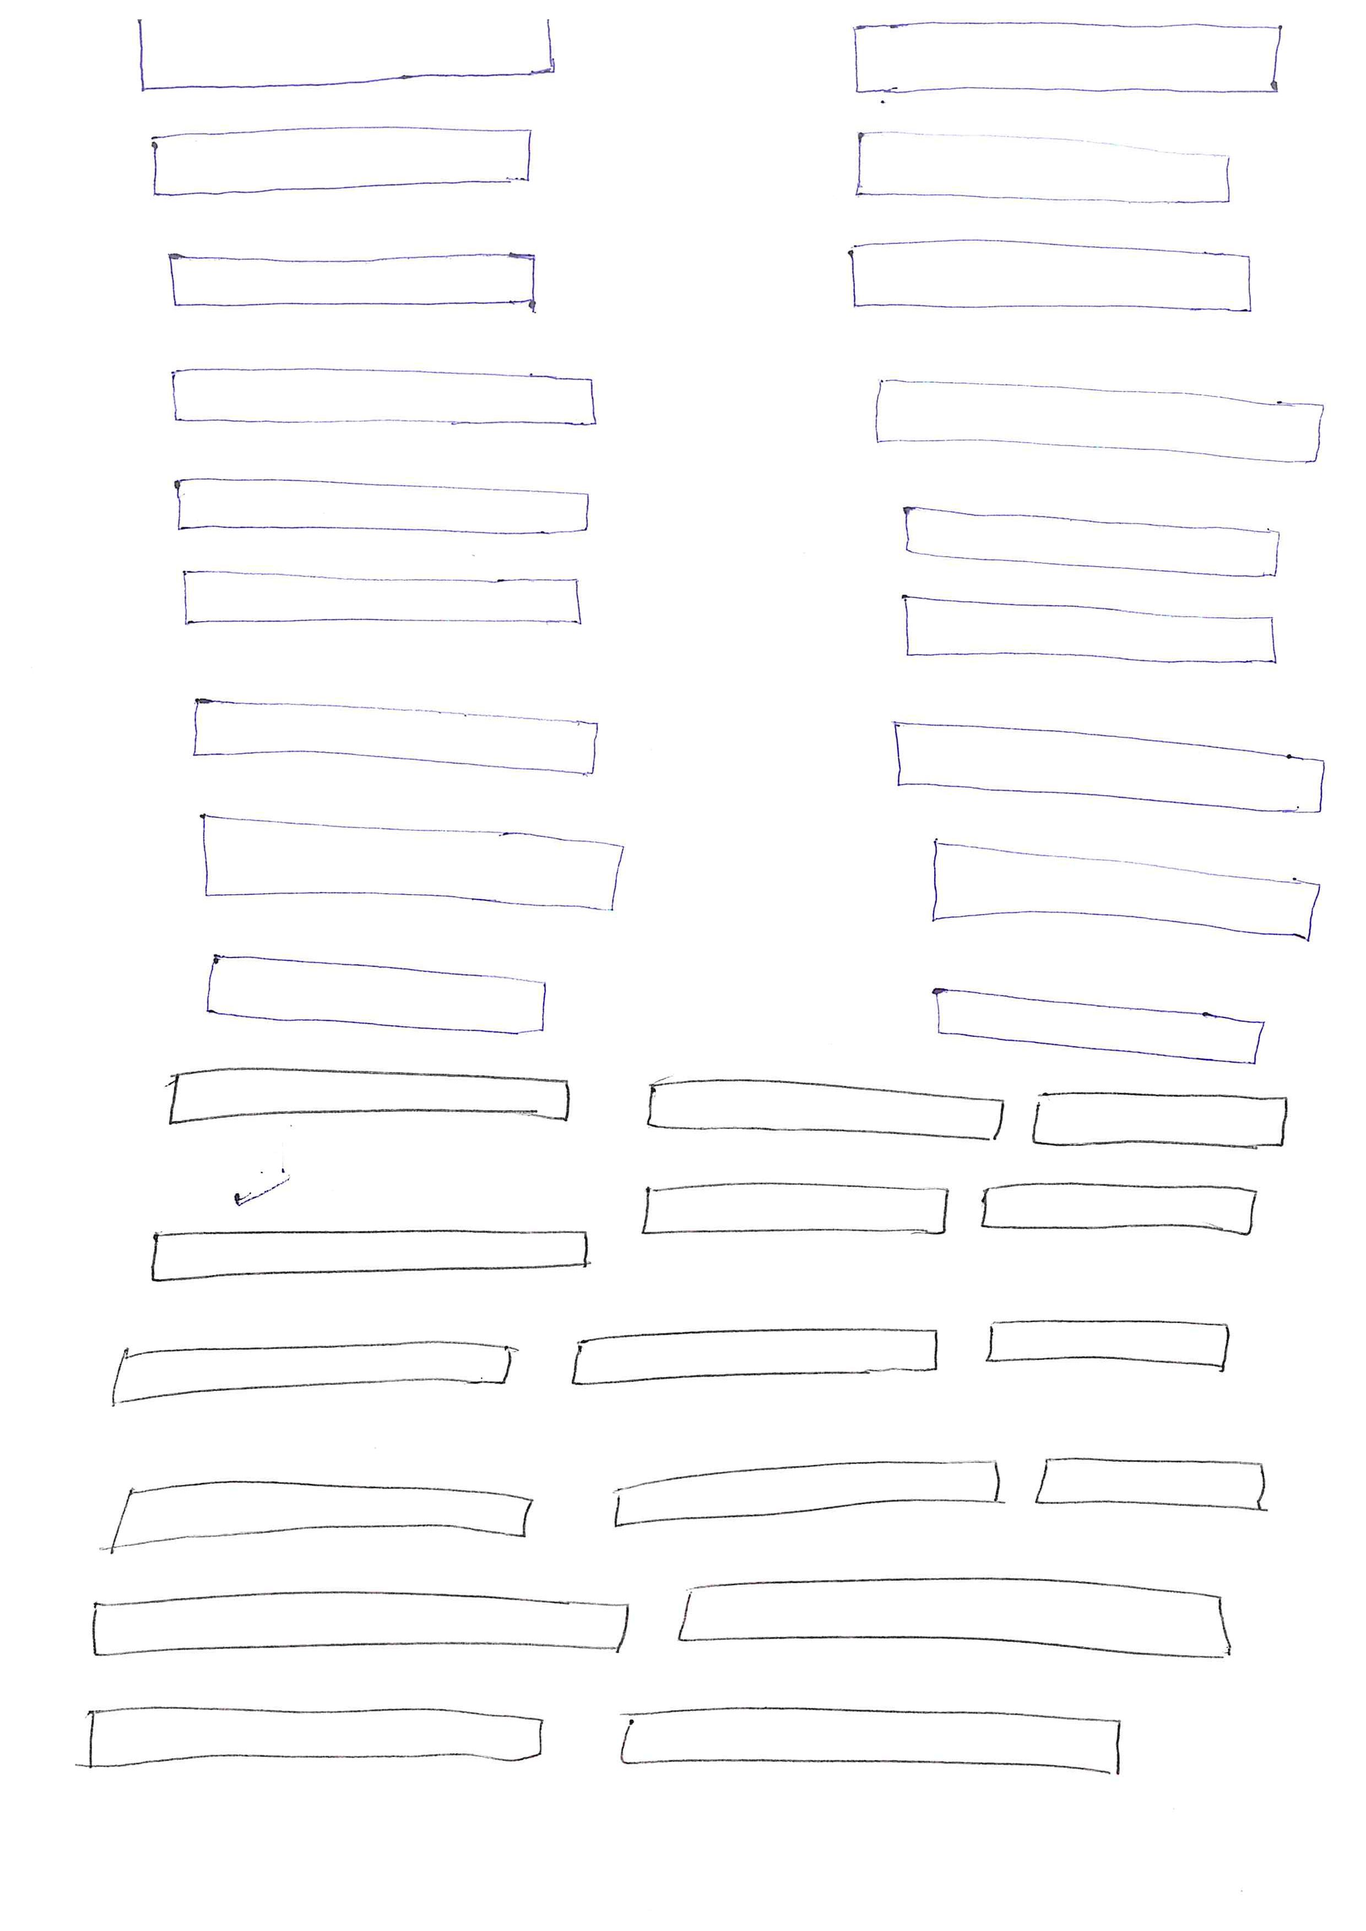Textbox: (676, 1575, 1234, 1660), (891, 716, 1326, 818), (198, 812, 622, 912), (928, 838, 1322, 945), (874, 377, 1326, 467), (89, 1591, 631, 1657), (618, 1706, 1122, 1774), (853, 19, 1285, 95), (191, 696, 599, 775), (83, 1703, 546, 1771), (108, 1480, 537, 1551), (849, 240, 1254, 313), (853, 129, 1231, 206), (902, 503, 1280, 580), (609, 1456, 1002, 1530), (203, 955, 548, 1036), (902, 591, 1277, 665), (149, 1224, 591, 1285), (931, 985, 1265, 1065), (109, 1340, 514, 1405), (174, 475, 591, 537), (170, 365, 594, 426), (180, 566, 582, 630), (167, 1066, 574, 1127), (645, 1075, 1005, 1141), (572, 1325, 939, 1388), (152, 126, 534, 186), (167, 250, 540, 308), (639, 1180, 951, 1236), (1030, 1090, 1288, 1147), (980, 1178, 1258, 1232), (1032, 1456, 1268, 1513), (986, 1317, 1231, 1369)
